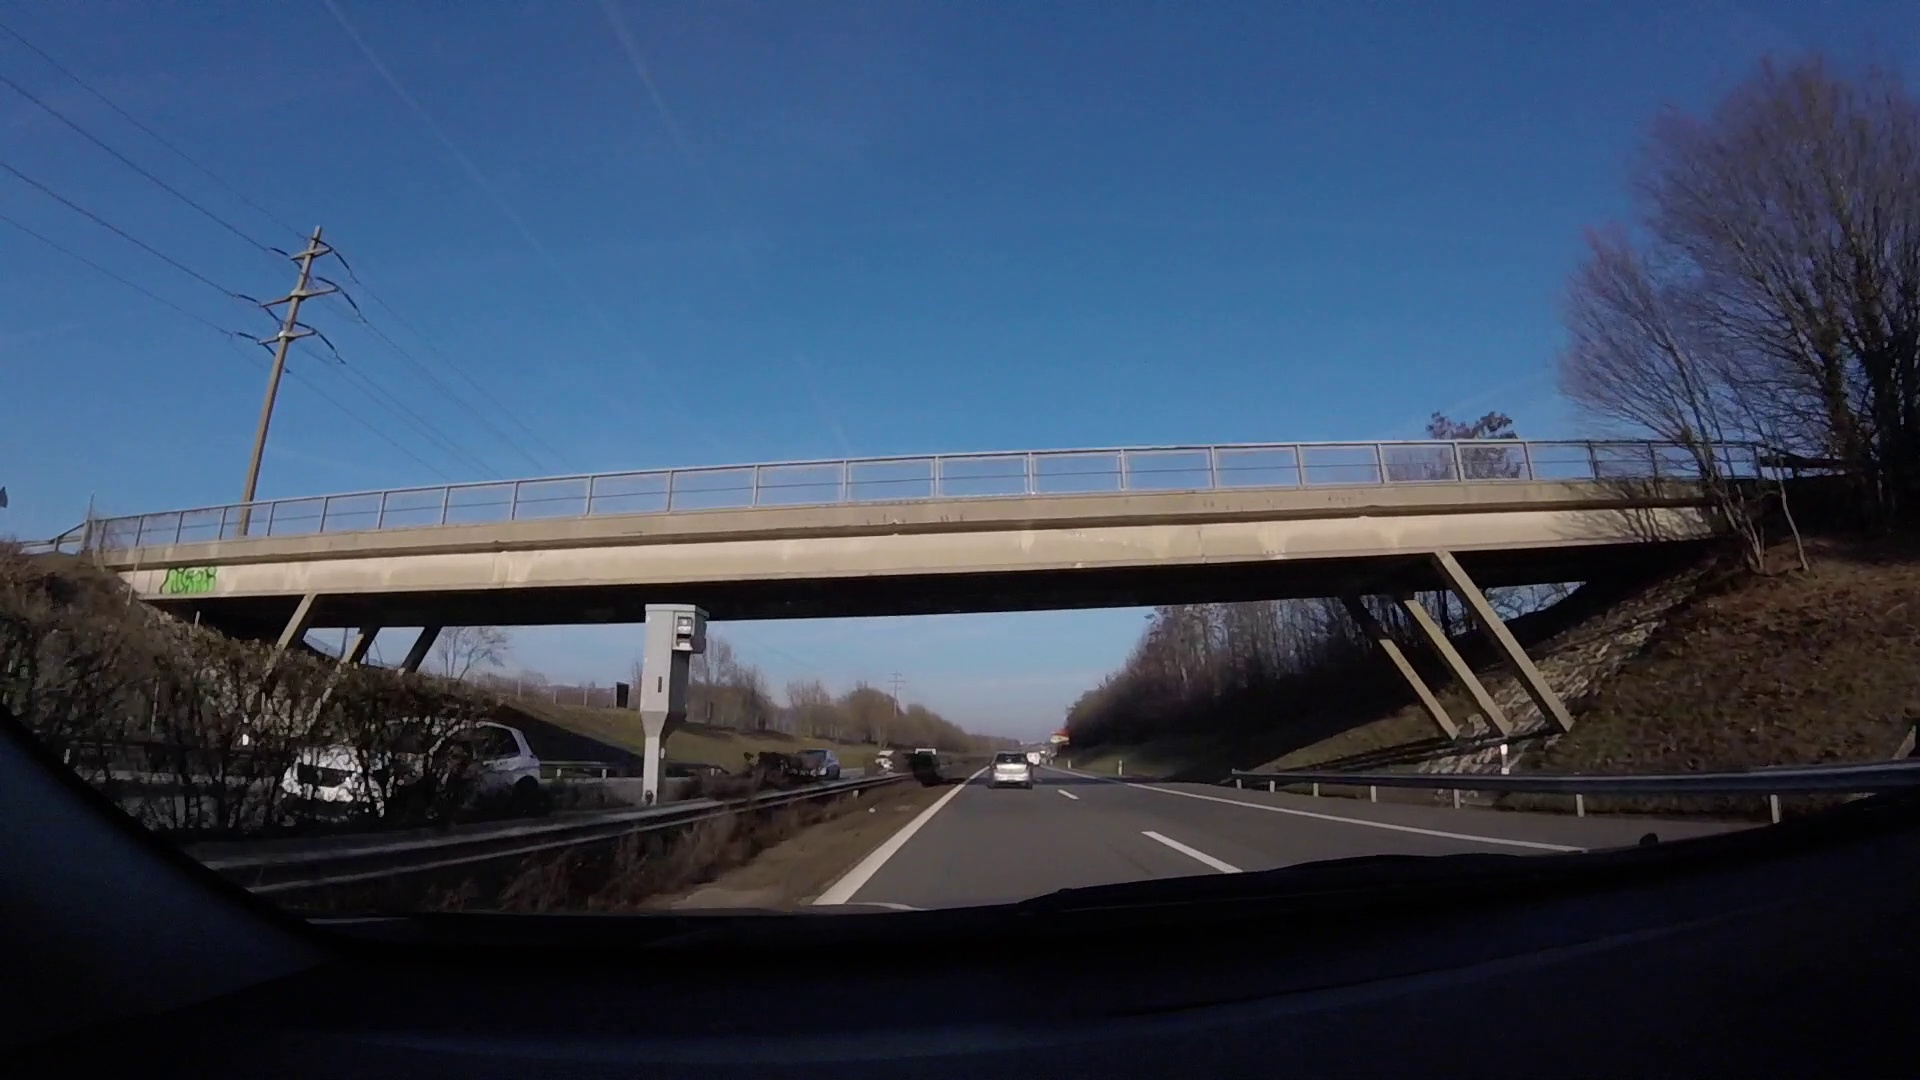radar: (638, 603, 709, 804)
